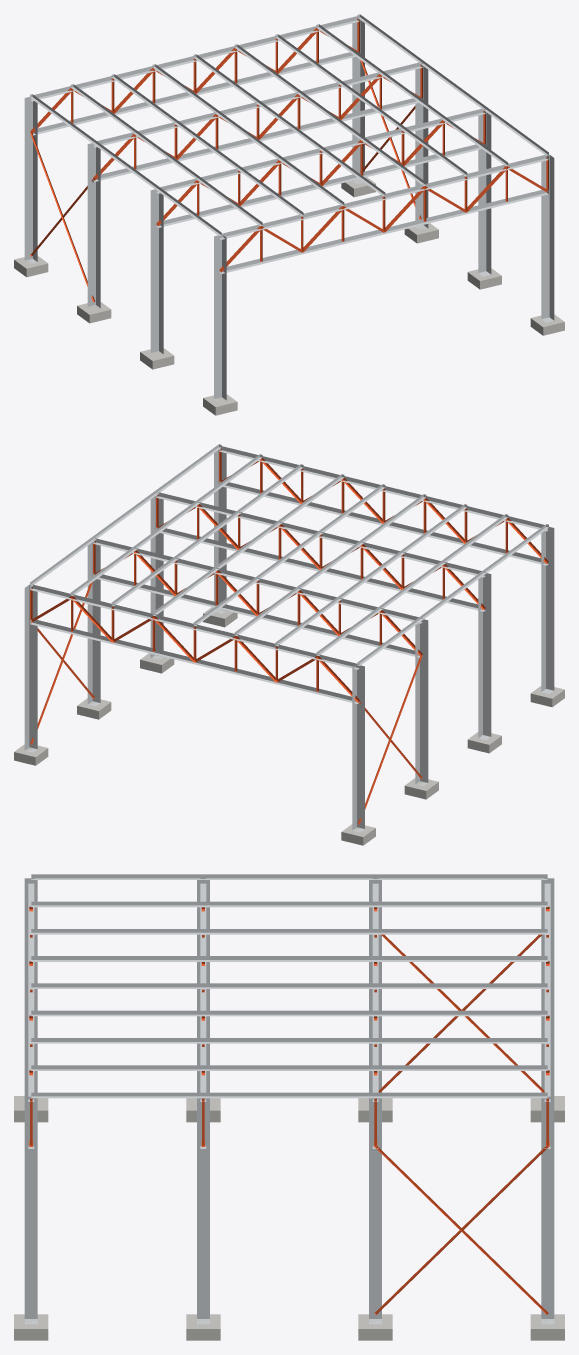
The model's file is roof-trusses.glb.
The picture shows the model from 3 angles, top to bottom: view 1: azimuth 30°, elevation 25°; view 2: azimuth 150°, elevation 25°; view 3: azimuth 270°, elevation 25°; orthographic projection. The views are drawn at different scales.
Parts seen in each view (by area): view 1: roof-trusses; view 2: roof-trusses; view 3: roof-trusses.
Part boxes in pixels (box(x1,y1,x2,y2)): roof-trusses: box(14, 14, 564, 415); roof-trusses: box(14, 444, 564, 845); roof-trusses: box(14, 874, 564, 1340).
Bounding box in the file's own units: 12.8 × 6.15 × 12.8.
